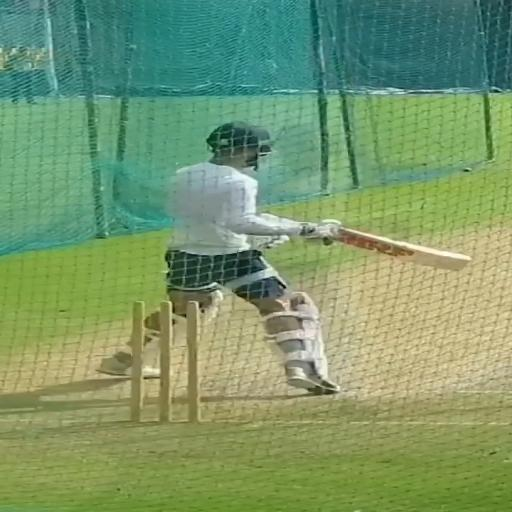Cricket bat: (332, 228, 471, 270)
